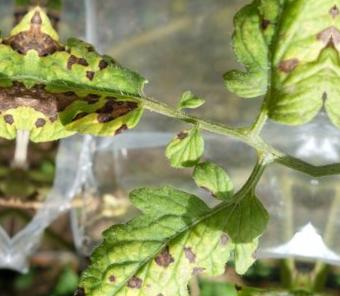Tomato Septoria leaf spot: (64, 151, 278, 296), (22, 0, 164, 154), (216, 0, 337, 136)
